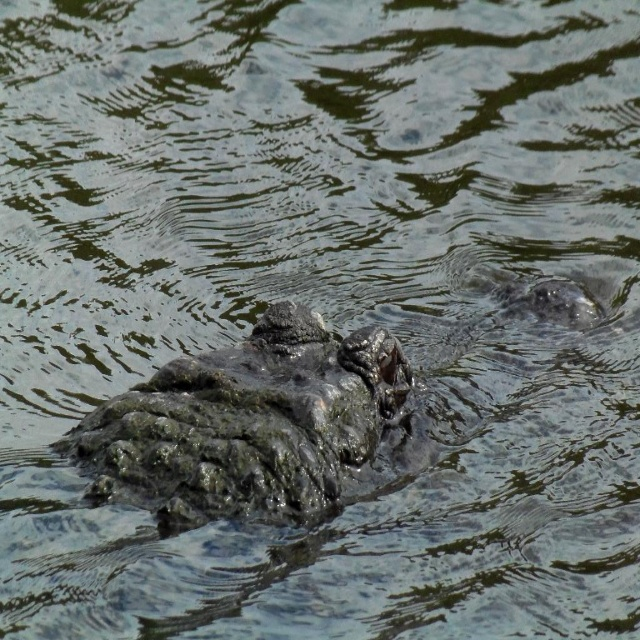Crocodile: (51, 277, 640, 565)
